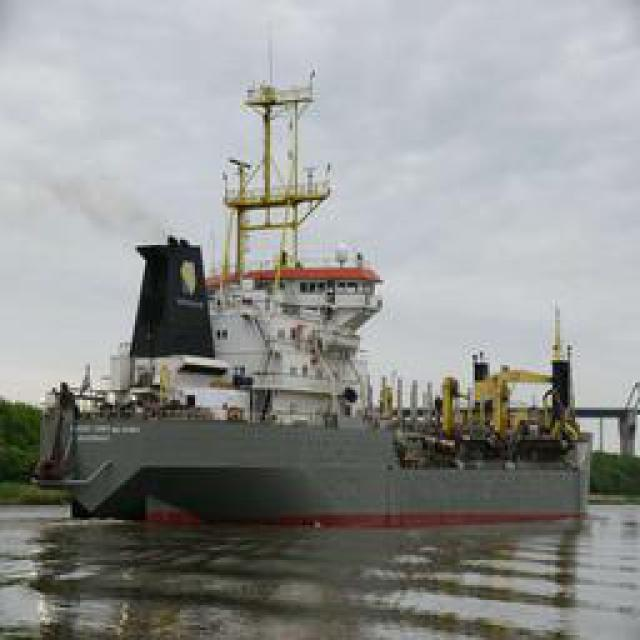Ship: (45, 66, 555, 554)
